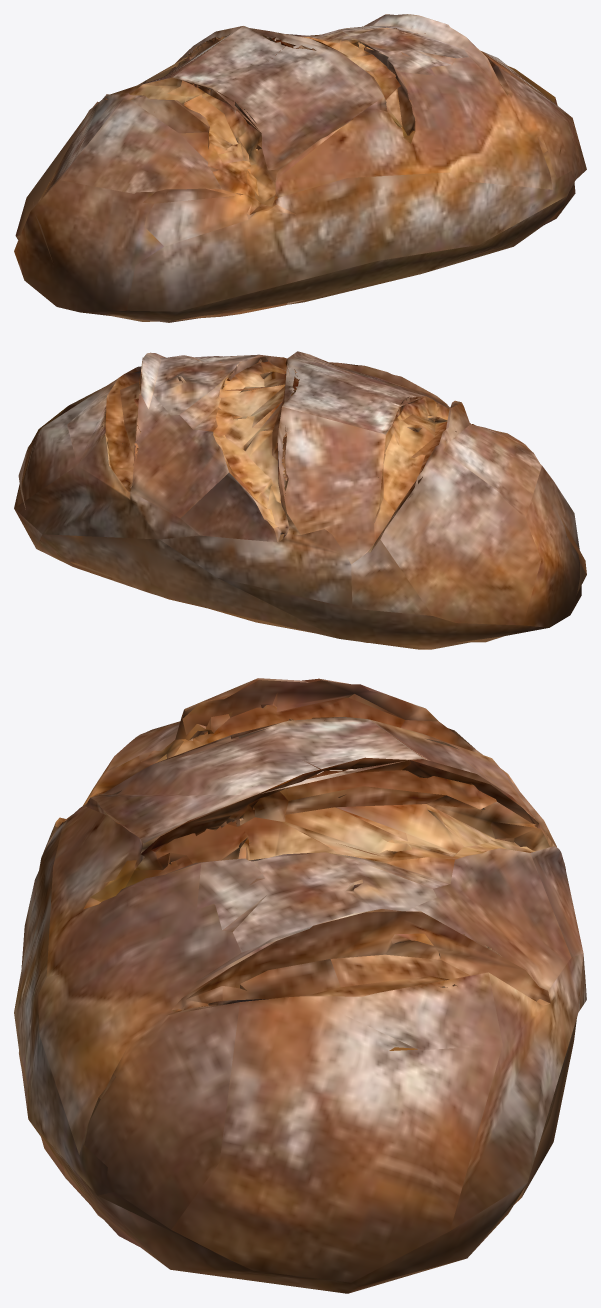
3 renders of one model, top to bottom at view 1: azimuth 30°, elevation 25°; view 2: azimuth 150°, elevation 25°; view 3: azimuth 270°, elevation 25°, orthographic. The views are drawn at different scales.
Visible parts, largest first — view 1: geometry_0; view 2: geometry_0; view 3: geometry_0.
Boxes of the visible parts, left/top/right/bottom form: geometry_0: left=14, top=14, right=586, bottom=322; geometry_0: left=14, top=351, right=586, bottom=649; geometry_0: left=14, top=678, right=586, bottom=1293.
Size of the model in its own units: 0.3149 by 0.1147 by 0.1782.
Materials: 1 (1 with a texture image).
